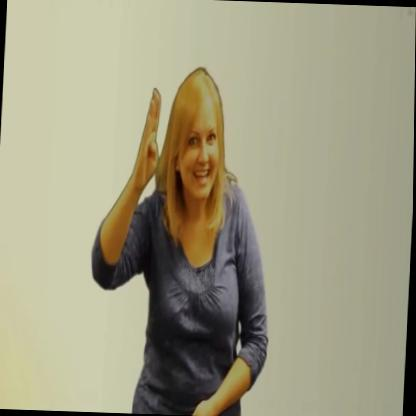Hello: (118, 58, 243, 230)
